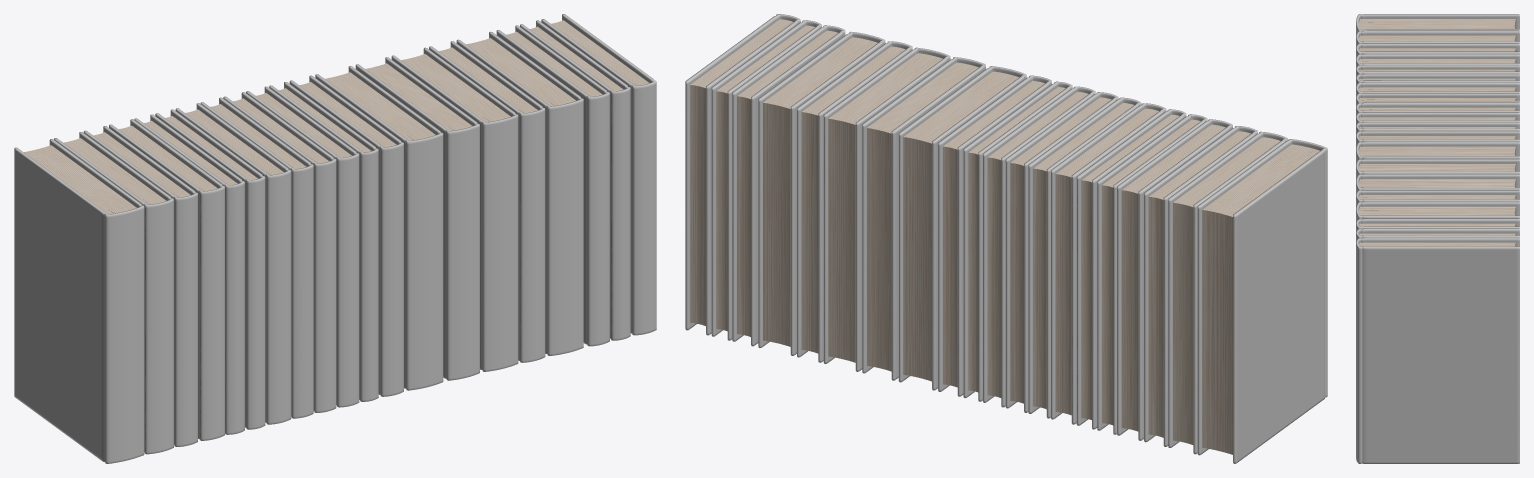
Rendered from book_encyclopedia_set_01_4k.fbx.
The picture shows the model from 3 angles, left to right: view 1: azimuth 30°, elevation 25°; view 2: azimuth 150°, elevation 25°; view 3: azimuth 270°, elevation 25°; orthographic projection. The views are drawn at different scales.
Parts seen in each view (by area): view 1: book_encyclopedia_set_01_book01, book_encyclopedia_set_01_book13, book_encyclopedia_set_01_book15, book_encyclopedia_set_01_book17, book_encyclopedia_set_01_book14, book_encyclopedia_set_01_book02, book_encyclopedia_set_01_book16, book_encyclopedia_set_01_book04, book_encyclopedia_set_01_book18, book_encyclopedia_set_01_book20, book_encyclopedia_set_01_book07, book_encyclopedia_set_01_book12 (+8 smaller); view 2: book_encyclopedia_set_01_book01, book_encyclopedia_set_01_book13, book_encyclopedia_set_01_book15, book_encyclopedia_set_01_book17, book_encyclopedia_set_01_book14, book_encyclopedia_set_01_book02, book_encyclopedia_set_01_book04, book_encyclopedia_set_01_book16, book_encyclopedia_set_01_book18, book_encyclopedia_set_01_book20, book_encyclopedia_set_01_book07, book_encyclopedia_set_01_book12 (+8 smaller); view 3: book_encyclopedia_set_01_book20, book_encyclopedia_set_01_book13, book_encyclopedia_set_01_book01, book_encyclopedia_set_01_book17, book_encyclopedia_set_01_book15, book_encyclopedia_set_01_book14, book_encyclopedia_set_01_book02, book_encyclopedia_set_01_book16, book_encyclopedia_set_01_book03, book_encyclopedia_set_01_book12, book_encyclopedia_set_01_book07, book_encyclopedia_set_01_book04 (+8 smaller).
Boxes of the visible parts, <box> form: book_encyclopedia_set_01_book01: <box>14,139,144,463</box>; book_encyclopedia_set_01_book13: <box>315,66,443,390</box>; book_encyclopedia_set_01_book15: <box>391,47,518,371</box>; book_encyclopedia_set_01_book17: <box>456,31,583,355</box>; book_encyclopedia_set_01_book14: <box>355,57,479,380</box>; book_encyclopedia_set_01_book02: <box>54,132,173,454</box>; book_encyclopedia_set_01_book16: <box>429,41,545,362</box>; book_encyclopedia_set_01_book04: <box>109,119,224,440</box>; book_encyclopedia_set_01_book18: <box>496,25,609,346</box>; book_encyclopedia_set_01_book20: <box>541,14,656,335</box>; book_encyclopedia_set_01_book07: <box>175,103,291,424</box>; book_encyclopedia_set_01_book12: <box>289,75,403,396</box>; book_encyclopedia_set_01_book01: <box>1197,139,1327,463</box>; book_encyclopedia_set_01_book13: <box>898,66,1026,390</box>; book_encyclopedia_set_01_book15: <box>823,47,950,371</box>; book_encyclopedia_set_01_book17: <box>758,32,885,355</box>; book_encyclopedia_set_01_book14: <box>862,57,985,380</box>; book_encyclopedia_set_01_book02: <box>1168,131,1287,454</box>; book_encyclopedia_set_01_book04: <box>1117,119,1232,440</box>; book_encyclopedia_set_01_book16: <box>797,41,912,362</box>; book_encyclopedia_set_01_book18: <box>732,25,845,346</box>; book_encyclopedia_set_01_book20: <box>685,14,800,335</box>; book_encyclopedia_set_01_book07: <box>1051,103,1166,424</box>; book_encyclopedia_set_01_book12: <box>938,75,1051,396</box>; book_encyclopedia_set_01_book20: <box>1356,238,1519,463</box>; book_encyclopedia_set_01_book13: <box>1356,142,1519,164</box>; book_encyclopedia_set_01_book01: <box>1356,14,1519,35</box>; book_encyclopedia_set_01_book17: <box>1356,202,1519,222</box>; book_encyclopedia_set_01_book15: <box>1356,174,1519,194</box>; book_encyclopedia_set_01_book14: <box>1356,159,1519,180</box>; book_encyclopedia_set_01_book02: <box>1356,30,1519,47</box>; book_encyclopedia_set_01_book16: <box>1356,190,1519,208</box>; book_encyclopedia_set_01_book03: <box>1356,43,1519,58</box>; book_encyclopedia_set_01_book12: <box>1356,131,1519,148</box>; book_encyclopedia_set_01_book07: <box>1356,82,1519,96</box>; book_encyclopedia_set_01_book04: <box>1356,54,1519,68</box>.
Bounding box in the file's own units: 55.13 × 23.74 × 16.31.
